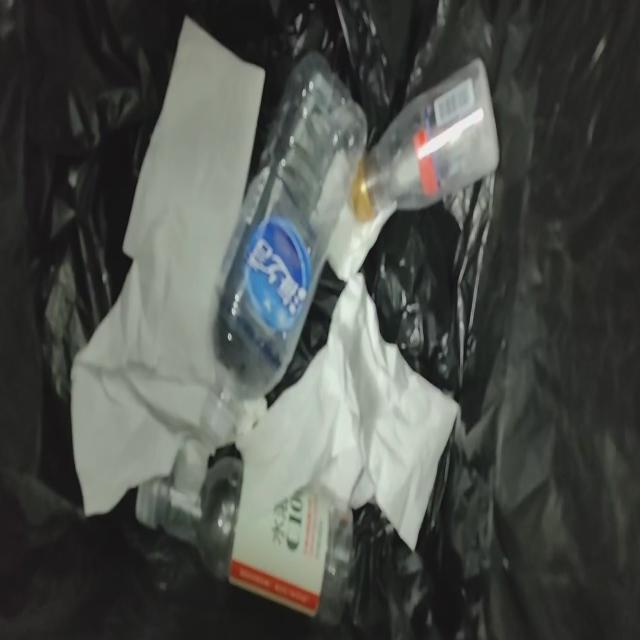bottle: (203, 51, 364, 440), (137, 459, 352, 624), (350, 60, 498, 220)
paper: (71, 20, 262, 514), (238, 269, 460, 549), (311, 148, 399, 283)
